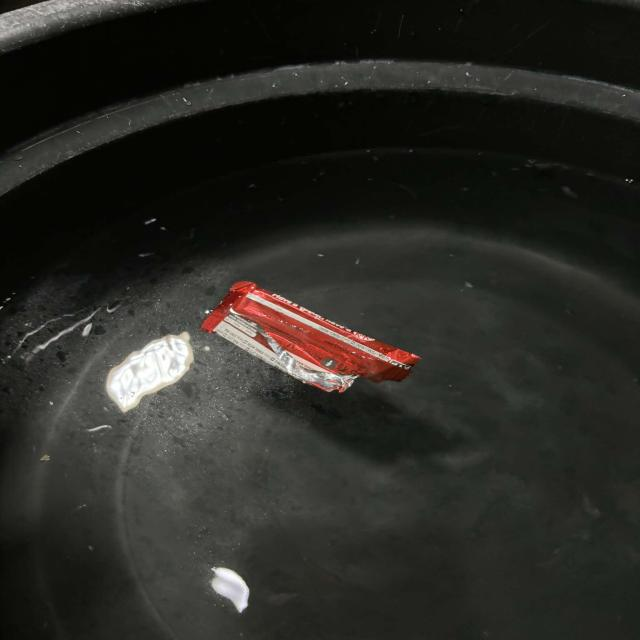Plastic Wrapper: (182, 268, 436, 409)
